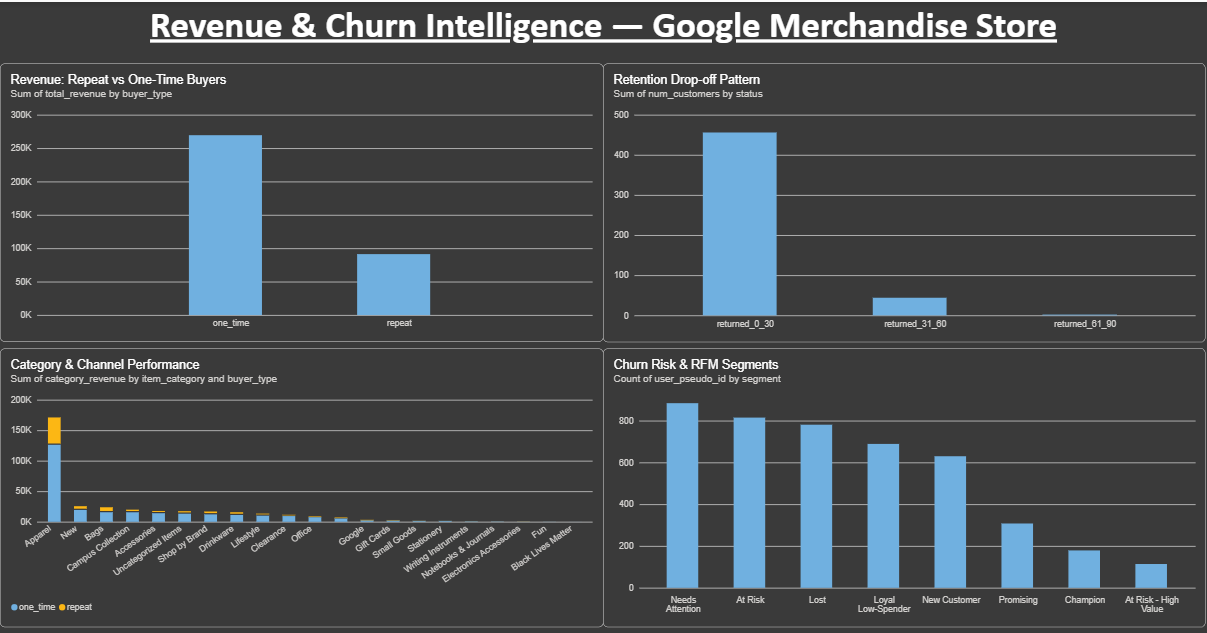

This screenshot's page, from the dashboard's own definition file:
{"tool":"powerbi","page":{"name":"Page 1","canvas":[1920,1080],"ordinal":0},"visuals":[{"type":"textbox","box":[0,0,1920,97.5],"z":0},{"type":"clusteredColumnChart","title":"Revenue: Repeat vs One-Time Buyers","fields":{"Category":["rfm_segments.buyer_type"],"Y":["Sum(rfm_segments.total_revenue)"]},"box":[0,97.5,960,442.5],"z":1000},{"type":"columnChart","title":"Retention Drop-off Pattern","fields":{"Category":["retention_dropoff_summary.status"],"Y":["Sum(retention_dropoff_summary.num_customers)"]},"box":[960,97.5,960,443],"z":2000},{"type":"columnChart","title":"Category & Channel Performance","fields":{"Category":["category_revenue_by_buyer_type.item_category"],"Series":["category_revenue_by_buyer_type.buyer_type"],"Y":["Sum(category_revenue_by_buyer_type.category_revenue)"]},"box":[0,551,960,443],"z":3000},{"type":"clusteredColumnChart","title":"Churn Risk & RFM Segments","fields":{"Category":["rfm_segments.segment"],"Y":["CountNonNull(rfm_segments.user_pseudo_id)"]},"box":[960,551,960,443],"z":4000}]}

Visuals, with their boxes on the page's 1920x1080 design canvas (x1, y1, x2, y2). These are canvas units, not pixel positions in the 1207x633 screenshot, which may show the page scaled, cropped or inside an application window:
textbox: [left=0, top=0, right=1920, bottom=98]
"Revenue: Repeat vs One-Time Buyers" clusteredColumnChart: [left=0, top=98, right=960, bottom=540]
"Retention Drop-off Pattern" columnChart: [left=960, top=98, right=1920, bottom=540]
"Category & Channel Performance" columnChart: [left=0, top=551, right=960, bottom=994]
"Churn Risk & RFM Segments" clusteredColumnChart: [left=960, top=551, right=1920, bottom=994]
